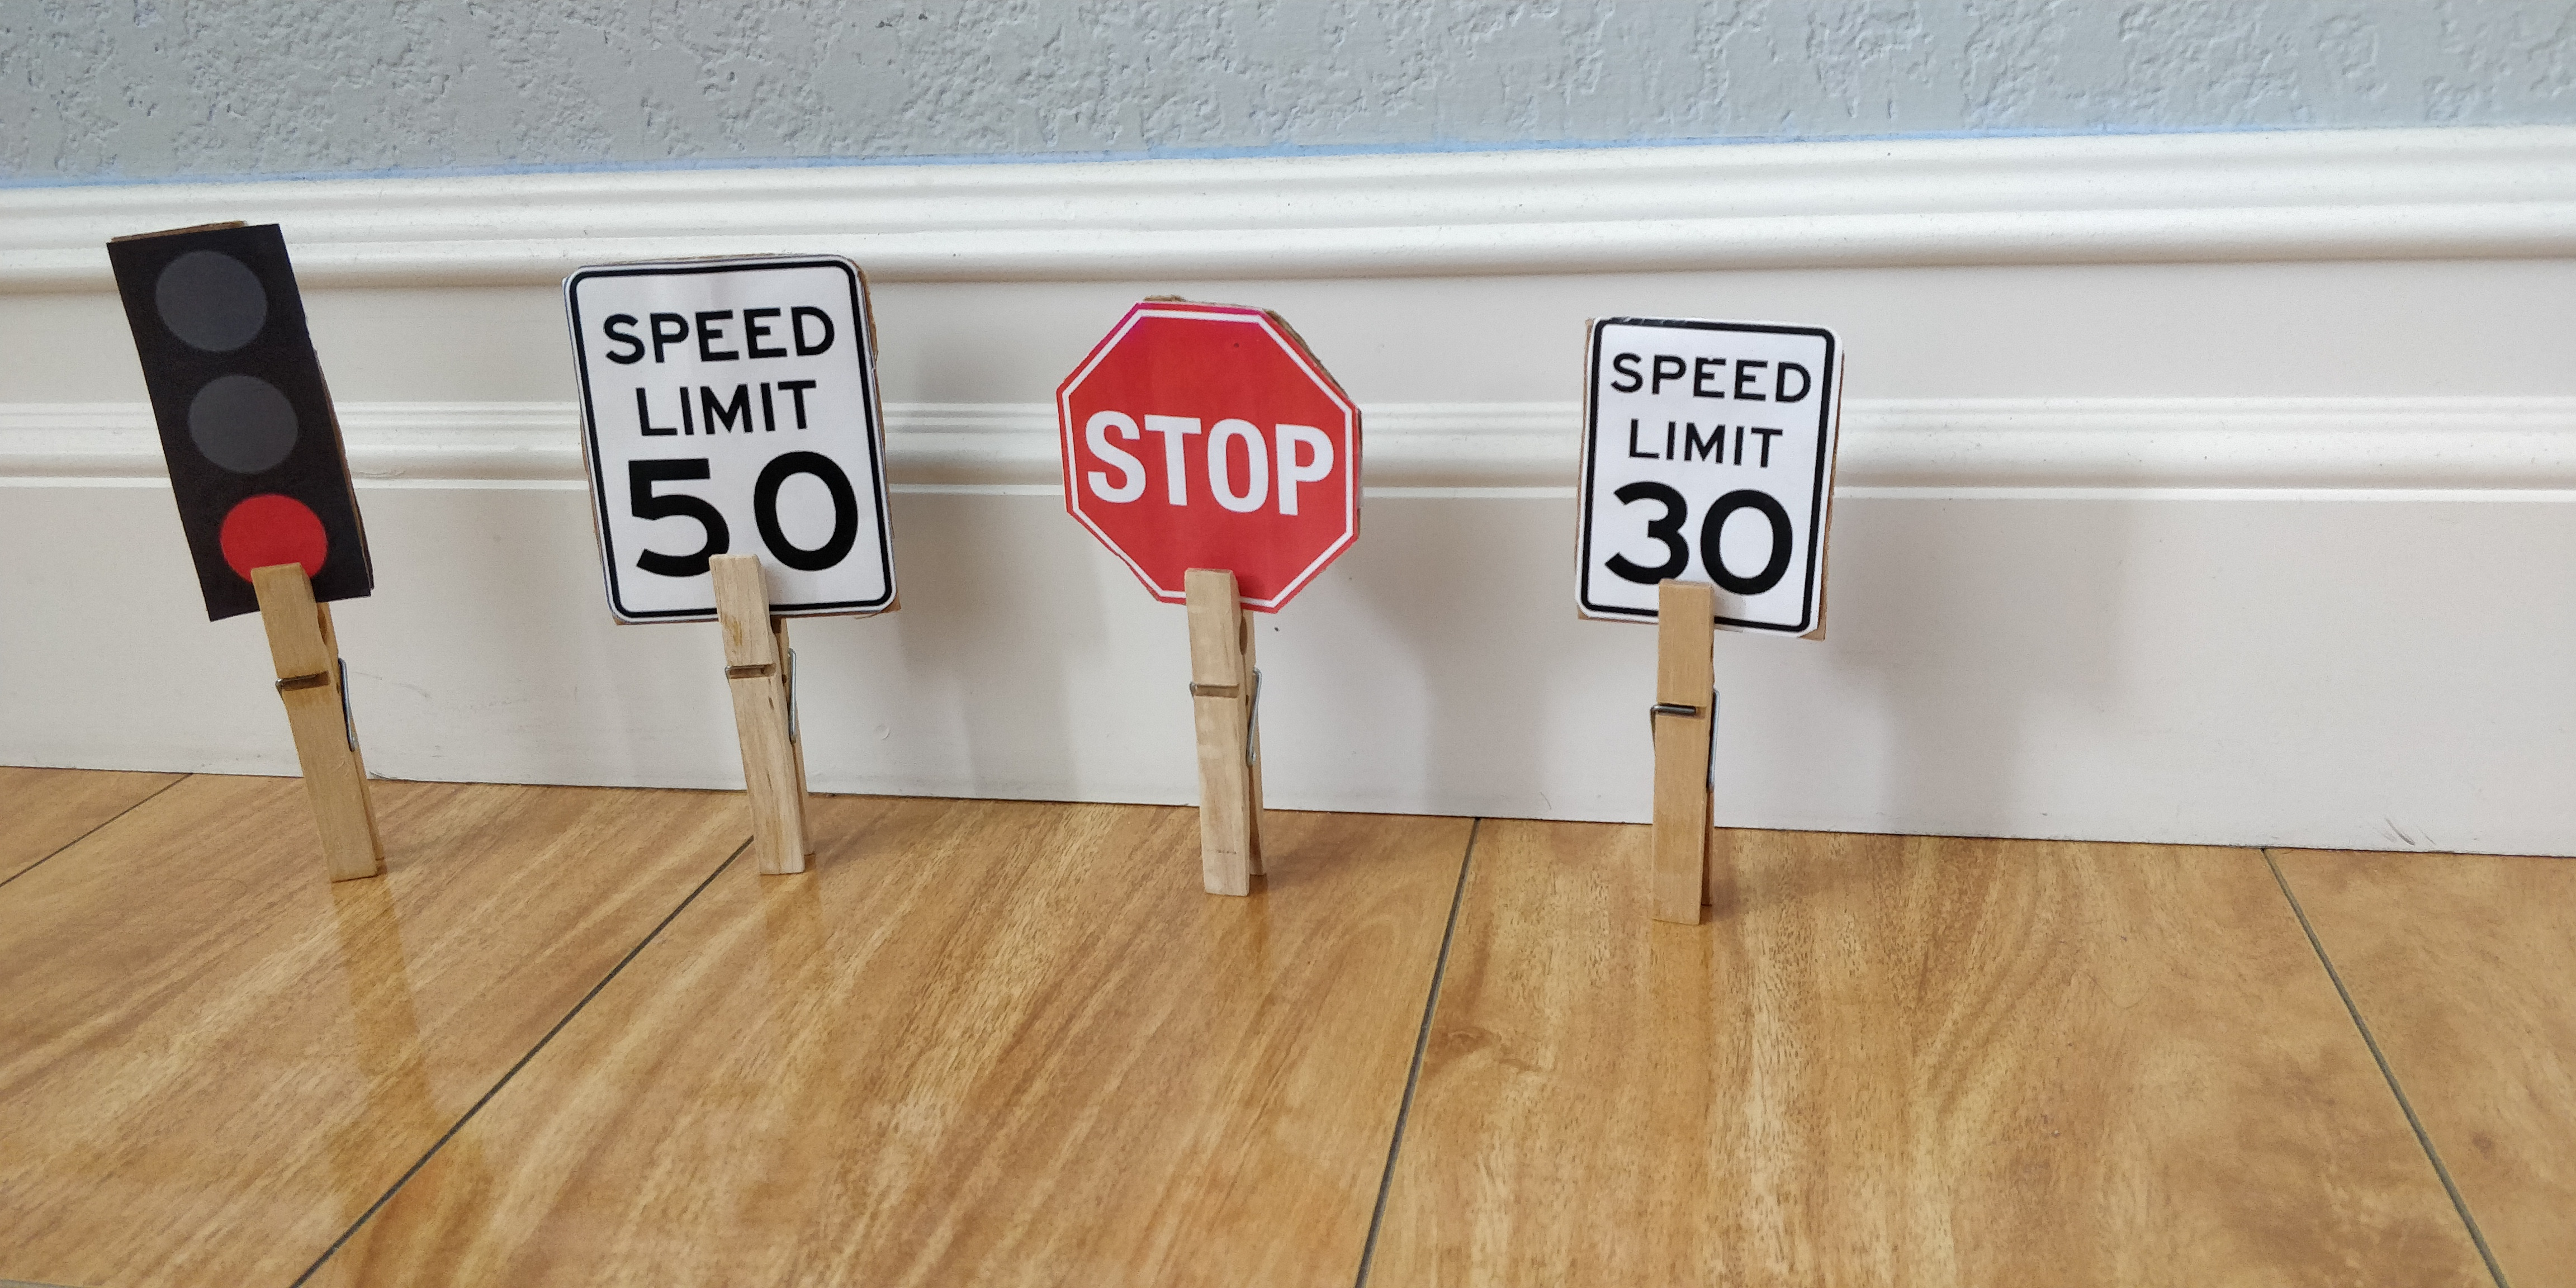Speed Limit 30: (1571, 317, 1847, 639)
Speed Limit 50: (563, 250, 900, 623)
Stop Sign: (1058, 296, 1368, 611)
red light: (108, 219, 370, 621)
